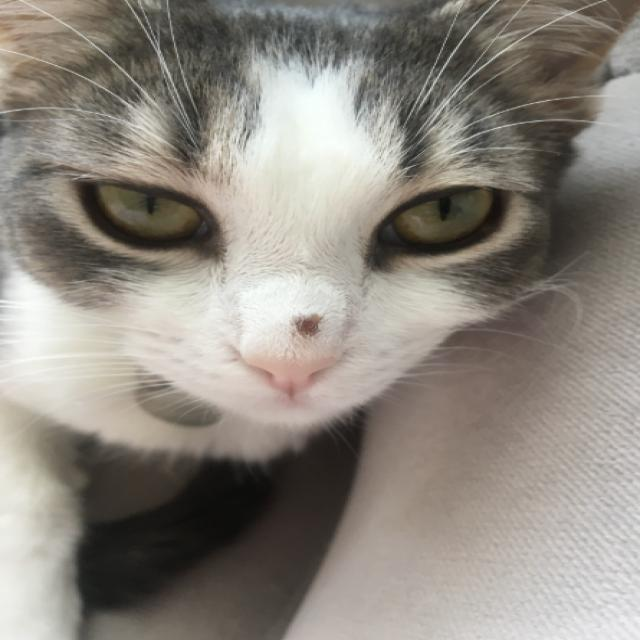cat-dermatitis: (285, 308, 333, 344)
